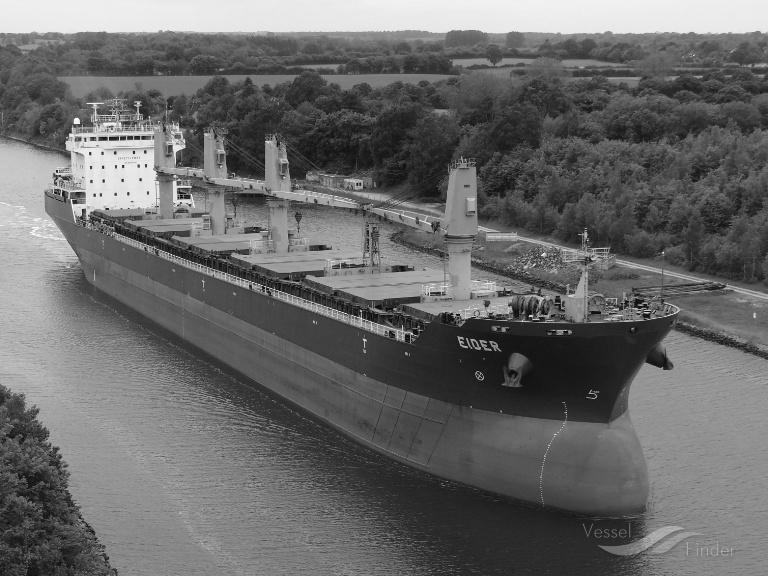OCR: (453, 329, 505, 357)
